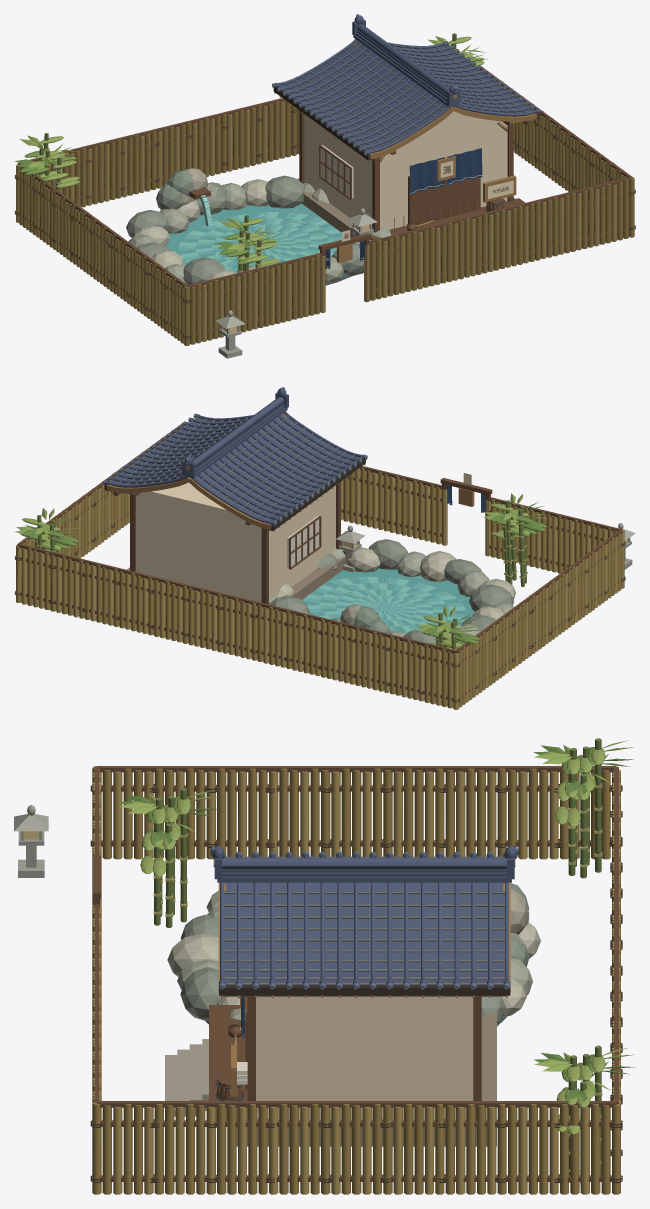
Rendered from feihua_onsen-refined-v1.glb.
3 renders of one model, top to bottom at view 1: azimuth 30°, elevation 25°; view 2: azimuth 150°, elevation 25°; view 3: azimuth 270°, elevation 25°, orthographic. The views are drawn at different scales.
Parts seen in each view (by area): view 1: feihua_onsen_FH_a38a50_surface, feihua_onsen_FH_b49b5f_surface, feihua_onsen_FH_525d77_surface, feihua_onsen_FH_70513b_surface, feihua_onsen_FH_e5d4b5_surface, feihua_onsen_FH_888f81_surface, feihua_onsen_FH_MineralWater1_water, feihua_onsen_FH_6d7070_surface, feihua_onsen_FH_MineralWater2_water, feihua_onsen_FH_a17c51_surface, feihua_onsen_FH_b6b4a0_surface, feihua_onsen_FH_9fa492_surface (+17 smaller); view 2: feihua_onsen_FH_a38a50_surface, feihua_onsen_FH_b49b5f_surface, feihua_onsen_FH_525d77_surface, feihua_onsen_FH_e5d4b5_surface, feihua_onsen_FH_70513b_surface, feihua_onsen_FH_MineralWater1_water, feihua_onsen_FH_888f81_surface, feihua_onsen_FH_6d7070_surface, feihua_onsen_FH_MineralWater2_water, feihua_onsen_FH_MineralWater3_water, feihua_onsen_FH_b6b4a0_surface, feihua_onsen_FH_72854a_surface (+14 smaller); view 3: feihua_onsen_FH_a38a50_surface, feihua_onsen_FH_525d77_surface, feihua_onsen_FH_b49b5f_surface, feihua_onsen_FH_e5d4b5_surface, feihua_onsen_FH_70513b_surface, feihua_onsen_FH_6d7070_surface, feihua_onsen_FH_72854a_surface, feihua_onsen_FH_93a75c_surface, feihua_onsen_FH_a5a08e_surface, feihua_onsen_FH_b6b4a0_surface, feihua_onsen_FH_41362b_surface, feihua_onsen_FH_888f81_surface (+9 smaller).
Boxes of the visible parts, x1,y1,x2,y2 form: feihua_onsen_FH_a38a50_surface: (19,66,634,345); feihua_onsen_FH_b49b5f_surface: (16,101,634,345); feihua_onsen_FH_525d77_surface: (274,15,539,154); feihua_onsen_FH_70513b_surface: (17,66,632,336); feihua_onsen_FH_e5d4b5_surface: (304,111,507,229); feihua_onsen_FH_888f81_surface: (126,175,363,284); feihua_onsen_FH_MineralWater1_water: (166,203,341,273); feihua_onsen_FH_6d7070_surface: (277,44,534,150); feihua_onsen_FH_MineralWater2_water: (178,212,341,272); feihua_onsen_FH_a17c51_surface: (337,41,537,262); feihua_onsen_FH_b6b4a0_surface: (134,179,370,280); feihua_onsen_FH_9fa492_surface: (128,183,390,283); feihua_onsen_FH_a38a50_surface: (16,422,624,708); feihua_onsen_FH_b49b5f_surface: (16,469,624,709); feihua_onsen_FH_525d77_surface: (104,388,365,525); feihua_onsen_FH_e5d4b5_surface: (136,482,335,602); feihua_onsen_FH_70513b_surface: (17,423,622,700); feihua_onsen_FH_MineralWater1_water: (301,568,474,632); feihua_onsen_FH_888f81_surface: (268,539,513,643); feihua_onsen_FH_6d7070_surface: (109,416,362,521); feihua_onsen_FH_MineralWater2_water: (303,576,465,634); feihua_onsen_FH_MineralWater3_water: (306,576,465,632); feihua_onsen_FH_b6b4a0_surface: (277,547,515,636); feihua_onsen_FH_72854a_surface: (34,500,526,649); feihua_onsen_FH_a38a50_surface: (92,766,620,1194); feihua_onsen_FH_525d77_surface: (212,846,516,984); feihua_onsen_FH_b49b5f_surface: (92,769,620,1194); feihua_onsen_FH_e5d4b5_surface: (256,996,473,1118); feihua_onsen_FH_70513b_surface: (93,766,618,1181); feihua_onsen_FH_6d7070_surface: (224,856,504,985); feihua_onsen_FH_72854a_surface: (154,738,601,1184); feihua_onsen_FH_93a75c_surface: (140,748,605,1134); feihua_onsen_FH_a5a08e_surface: (165,889,529,1116); feihua_onsen_FH_b6b4a0_surface: (167,891,540,1017); feihua_onsen_FH_41362b_surface: (219,985,510,995); feihua_onsen_FH_888f81_surface: (180,914,505,1023).
Size of the model in its own units: 25.37 by 8.62 by 18.96.
